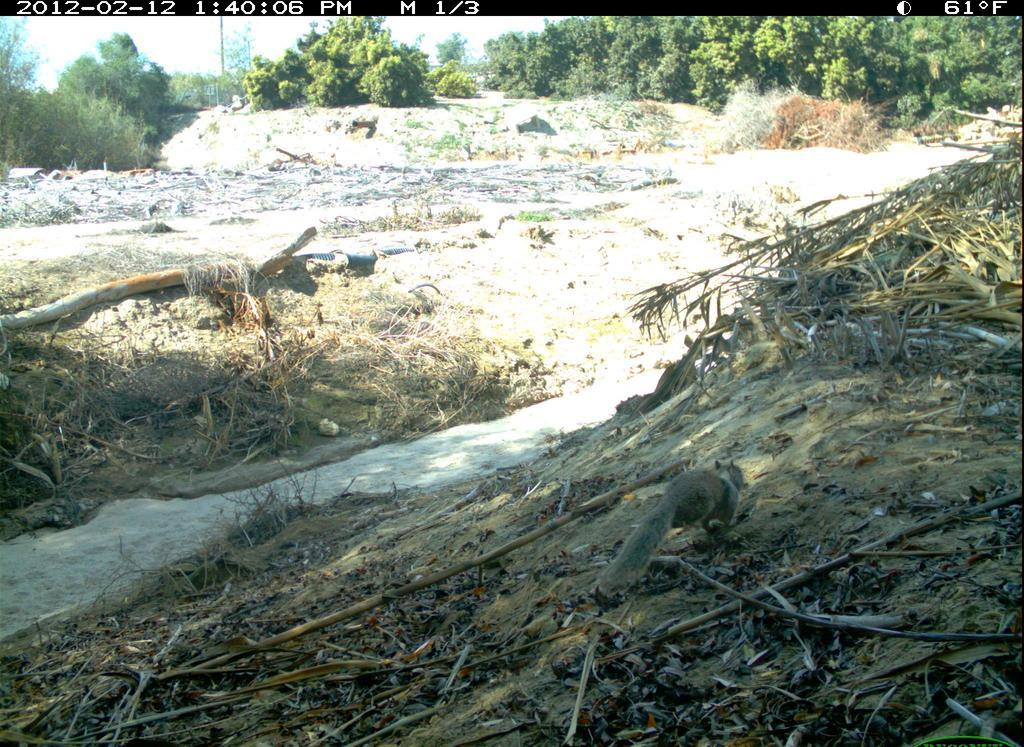squirrel: (587, 441, 745, 606)
